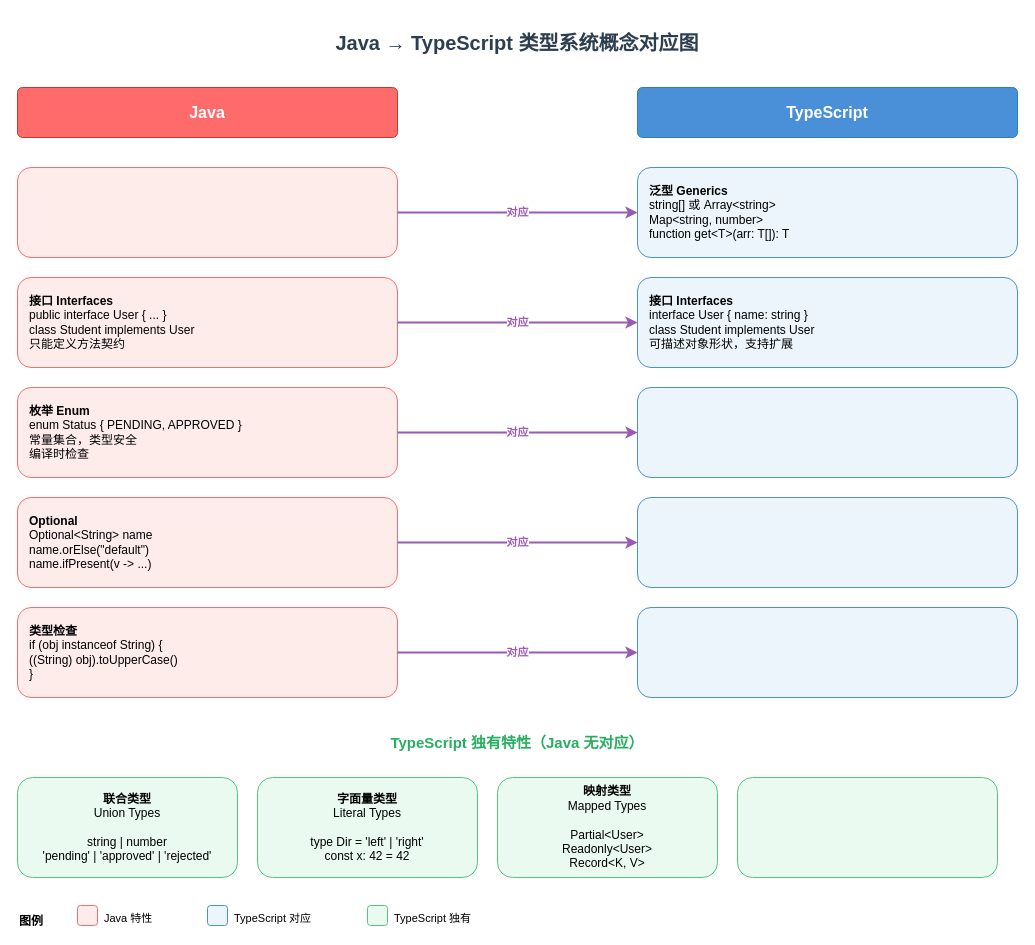
The diagram is 1035 pixels wide and 945 high, and some of its shapes have lost their labels. Each missing label, with the centre of its shape:
可选链 Optional Chaining user?.name ?? 'default' obj?.prop?.nested arr?.[0]: [827,542]
条件类型 Conditional Types T extends U ? X : Y 类型级别的 if/else: [867,827]
枚举 Enum enum Status { Pending, Approved } 字符串枚举更常用 编译为 JS 对象: [827,432]
泛型 Generics List<String> names Map<String, Integer> ages Optional<User> user: [207,212]
类型守卫 Type Guards if (typeof value === 'string') 编译器自动推断缩小类型 更简洁，更安全: [827,652]
